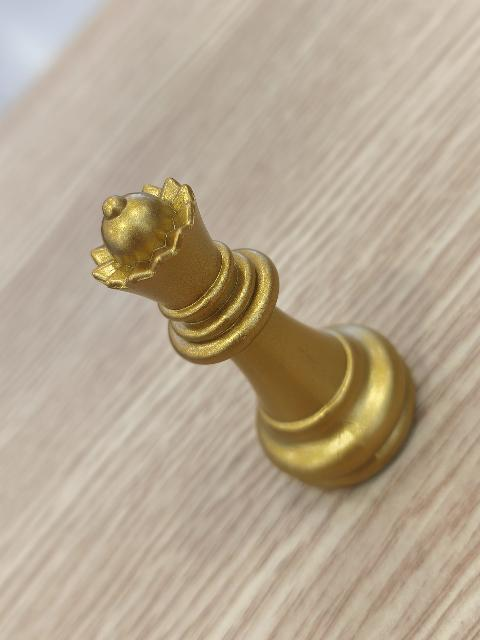black_queen: (89, 174, 418, 486)
